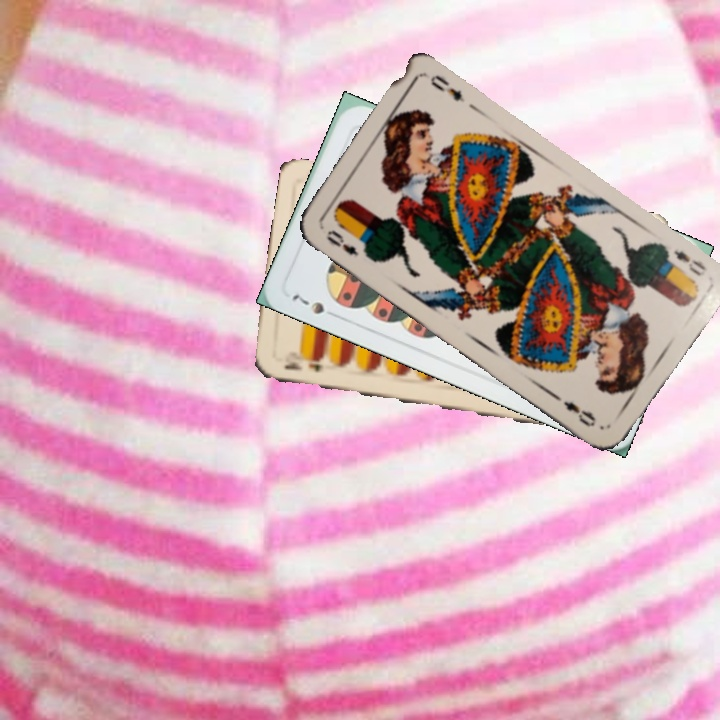E10: (280, 358, 326, 374)
EO: (669, 245, 708, 279), (322, 226, 361, 259)
S7: (287, 290, 327, 317)
